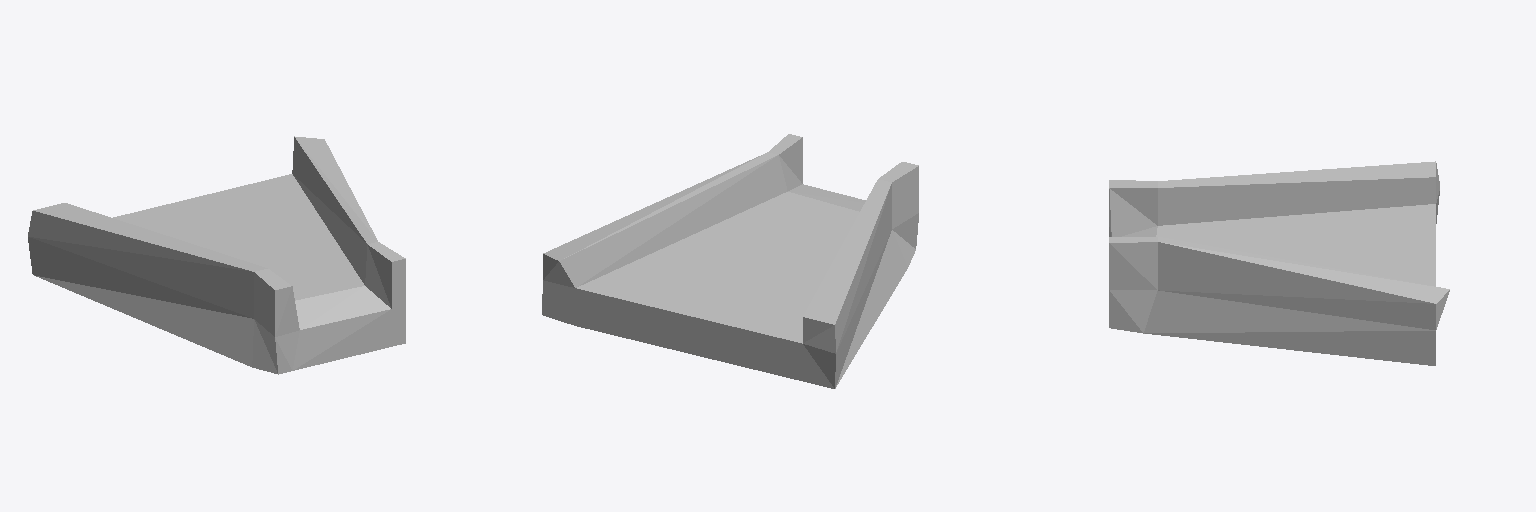
Rendered from Floor2.obj.
3 renders of one model, left to right at view 1: azimuth 30°, elevation 25°; view 2: azimuth 150°, elevation 25°; view 3: azimuth 270°, elevation 25°, orthographic.
Parts seen in each view (by area): view 1: Floor2; view 2: Floor2; view 3: Floor2.
Boxes of the visible parts, x1=… form: Floor2: x1=28, y1=136, x2=405, y2=374; Floor2: x1=542, y1=134, x2=918, y2=388; Floor2: x1=1109, y1=161, x2=1449, y2=365.
Size of the model in its own units: 16.38 by 4.66 by 16.33.